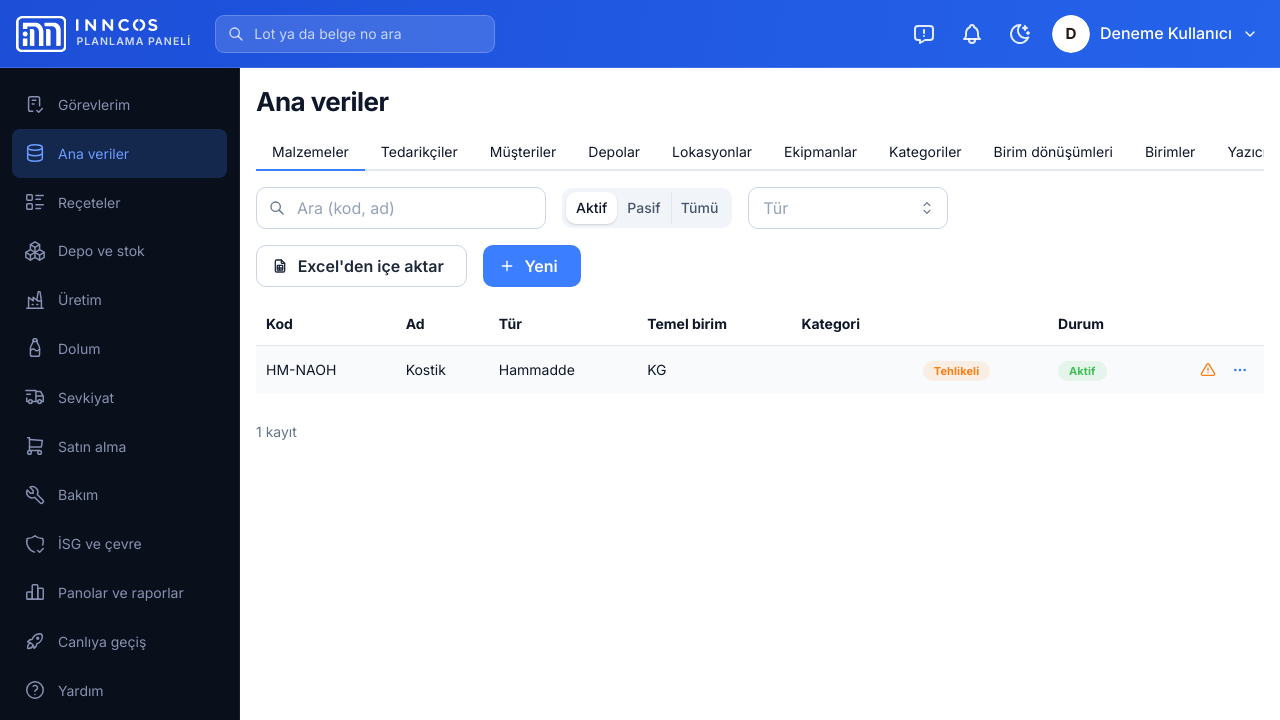
Test case: malzeme tehlike bilgisi › planlama malzeme kartında tehlike bilgisini görür ama düzenleyemez
Click the button named "Tehlike bilgisi: HM-NAOH" at (1208, 370), box 1194,356 -> 1222,384
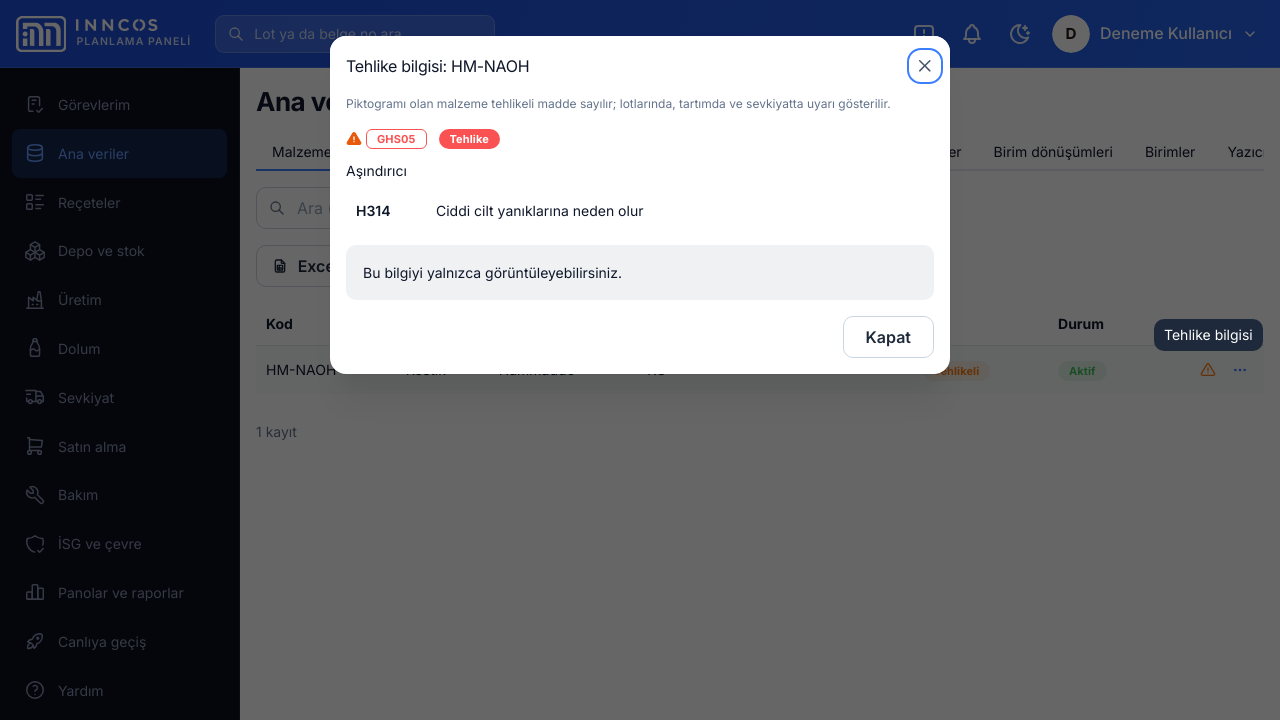
Now the text "GHS05" is shown, box 377,130 -> 416,148
Now the text "Tehlike" is shown, box 450,130 -> 489,148
Now the text "H314" is shown, box 346,193 -> 426,229
